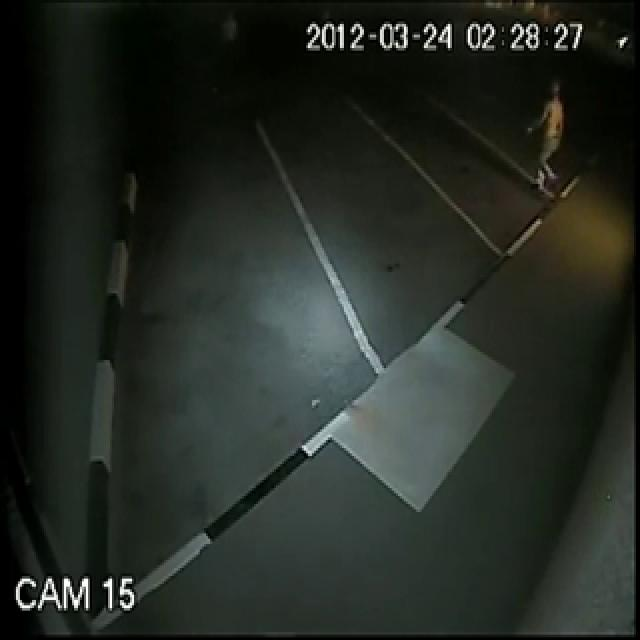vandalism: (508, 59, 640, 360)
